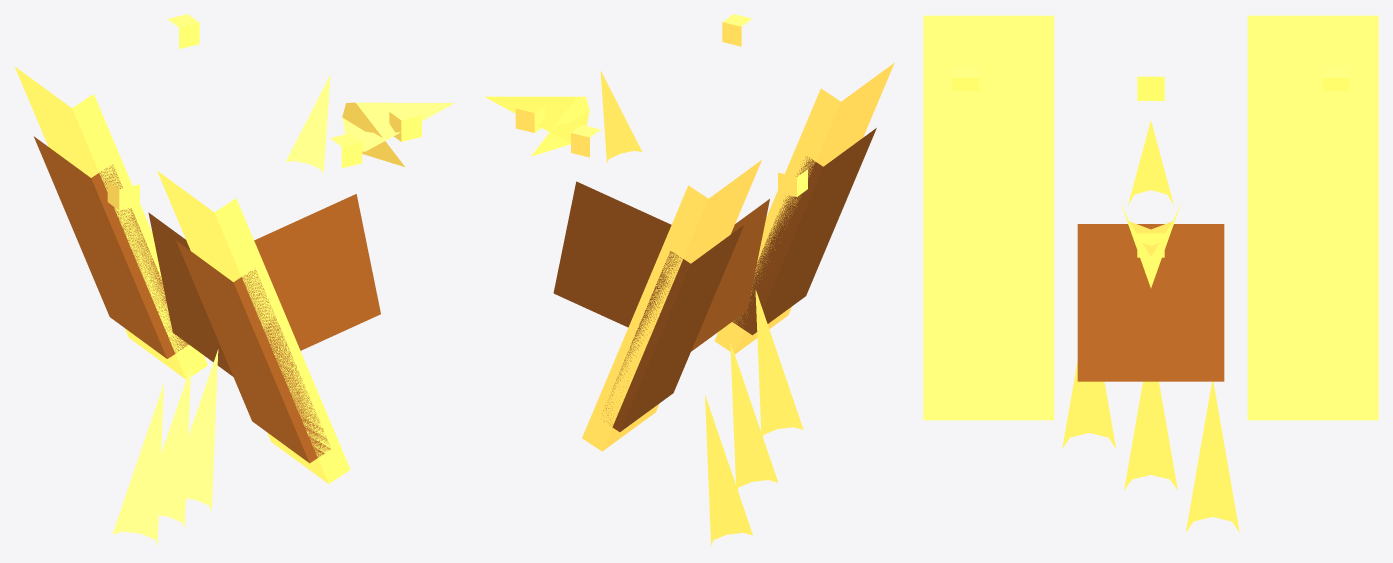
The model's file is phoenix.glb.
3 views of the same model, side by side, from view 1: azimuth 30°, elevation 25°; view 2: azimuth 150°, elevation 25°; view 3: azimuth 270°, elevation 25° (orthographic). The views are drawn at different scales.
Visible parts, largest first — view 1: phoenix-wing-l (×2), phoenix-wing-r (×2), phoenix-ember-body, phoenix-tail-flame-2, phoenix-beak-flame, phoenix-tail-flame-0, phoenix-tail-flame-1, phoenix-crest-flame, phoenix-flair-mote-1, phoenix-flair-mote-2, phoenix-flair-mote-3, phoenix-flair-mote-0; view 2: phoenix-wing-r (×2), phoenix-wing-l (×2), phoenix-ember-body, phoenix-tail-flame-0, phoenix-tail-flame-1, phoenix-tail-flame-2, phoenix-beak-flame, phoenix-crest-flame, phoenix-flair-mote-1, phoenix-flair-mote-2, phoenix-flair-mote-3, phoenix-flair-mote-0; view 3: phoenix-wing-l, phoenix-wing-r, phoenix-ember-body, phoenix-tail-flame-0, phoenix-tail-flame-1, phoenix-tail-flame-2, phoenix-crest-flame, phoenix-beak-flame, phoenix-flair-mote-2, phoenix-flair-mote-1, phoenix-flair-mote-3, phoenix-flair-mote-0.
Part boxes in pixels (bbox=[...]): phoenix-wing-l (×2): bbox=[157, 170, 350, 483]; phoenix-wing-r (×2): bbox=[14, 66, 207, 379]; phoenix-ember-body: bbox=[148, 194, 380, 376]; phoenix-tail-flame-2: bbox=[166, 349, 218, 511]; phoenix-beak-flame: bbox=[342, 102, 454, 166]; phoenix-tail-flame-0: bbox=[112, 383, 163, 545]; phoenix-tail-flame-1: bbox=[139, 366, 191, 527]; phoenix-crest-flame: bbox=[286, 74, 330, 173]; phoenix-flair-mote-1: bbox=[330, 133, 362, 167]; phoenix-flair-mote-2: bbox=[107, 181, 139, 210]; phoenix-flair-mote-3: bbox=[167, 14, 199, 48]; phoenix-flair-mote-0: bbox=[389, 112, 421, 141]; phoenix-wing-r (×2): bbox=[582, 160, 761, 451]; phoenix-wing-l (×2): bbox=[714, 63, 894, 354]; phoenix-ember-body: bbox=[553, 181, 769, 351]; phoenix-tail-flame-0: bbox=[705, 395, 752, 545]; phoenix-tail-flame-1: bbox=[730, 342, 778, 489]; phoenix-tail-flame-2: bbox=[755, 290, 803, 436]; phoenix-beak-flame: bbox=[484, 96, 589, 156]; phoenix-crest-flame: bbox=[600, 71, 642, 162]; phoenix-flair-mote-1: bbox=[722, 14, 751, 46]; phoenix-flair-mote-2: bbox=[778, 169, 807, 196]; phoenix-flair-mote-3: bbox=[571, 125, 600, 157]; phoenix-flair-mote-0: bbox=[515, 105, 545, 132]; phoenix-wing-l: bbox=[923, 15, 1054, 420]; phoenix-wing-r: bbox=[1247, 15, 1378, 420]; phoenix-ember-body: bbox=[1077, 224, 1224, 381]; phoenix-tail-flame-0: bbox=[1186, 381, 1239, 532]; phoenix-tail-flame-1: bbox=[1124, 381, 1177, 490]; phoenix-tail-flame-2: bbox=[1062, 361, 1116, 448]; phoenix-crest-flame: bbox=[1128, 121, 1173, 204]; phoenix-beak-flame: bbox=[1120, 203, 1181, 287]; phoenix-flair-mote-2: bbox=[1137, 76, 1164, 100]; phoenix-flair-mote-1: bbox=[952, 66, 979, 90]; phoenix-flair-mote-3: bbox=[1322, 66, 1349, 90]; phoenix-flair-mote-0: bbox=[1137, 233, 1164, 257].
Bounding box in the file's own units: 1.16 × 1.49 × 1.18.
